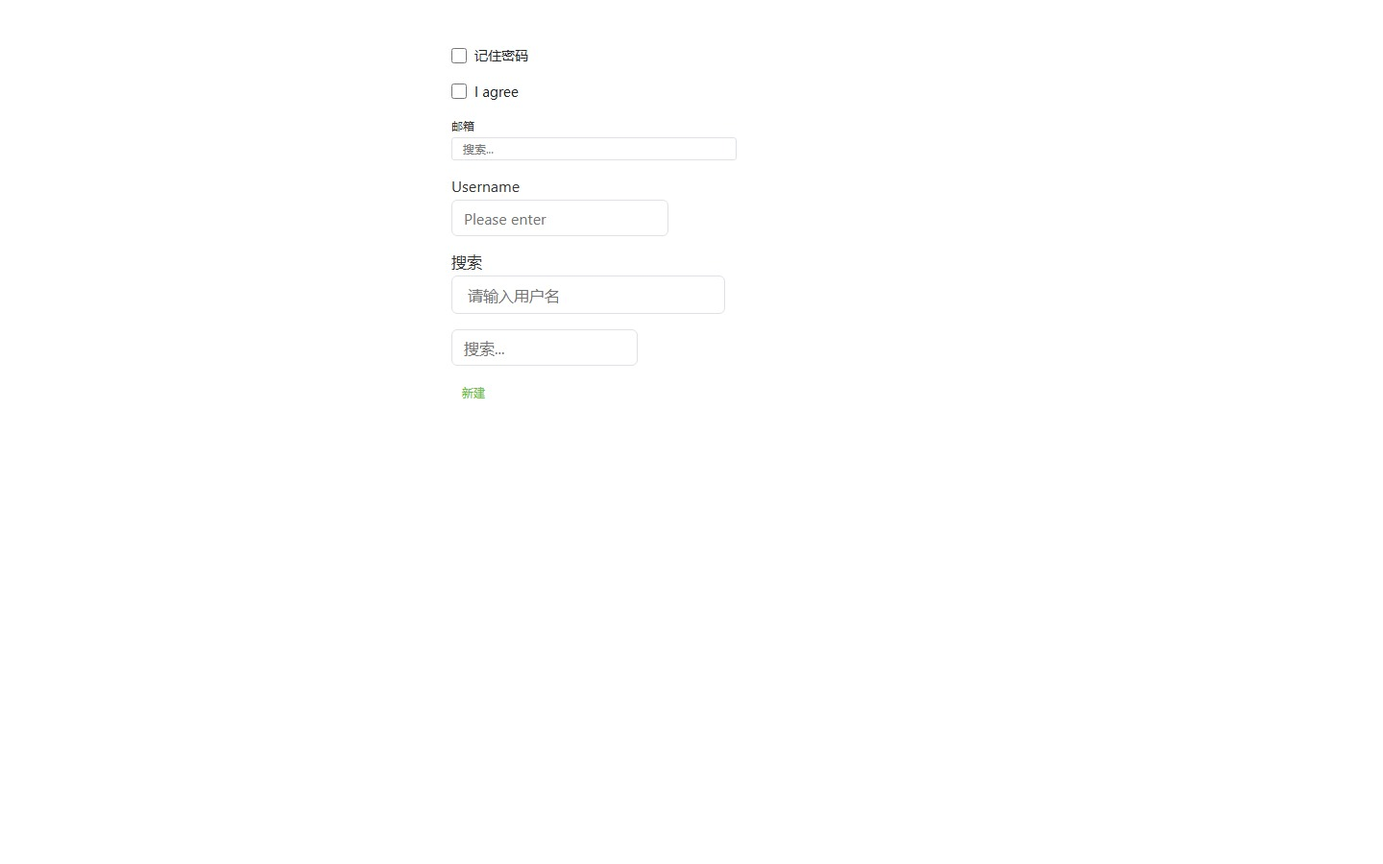button: (451, 382, 496, 403)
checkbox: (451, 48, 467, 63), (451, 84, 467, 99)
icon: (474, 46, 528, 64), (474, 82, 519, 100)
input: (451, 276, 725, 314), (451, 200, 668, 236), (451, 329, 638, 366), (451, 137, 737, 160)
radio: (451, 46, 528, 64), (451, 82, 519, 100)
